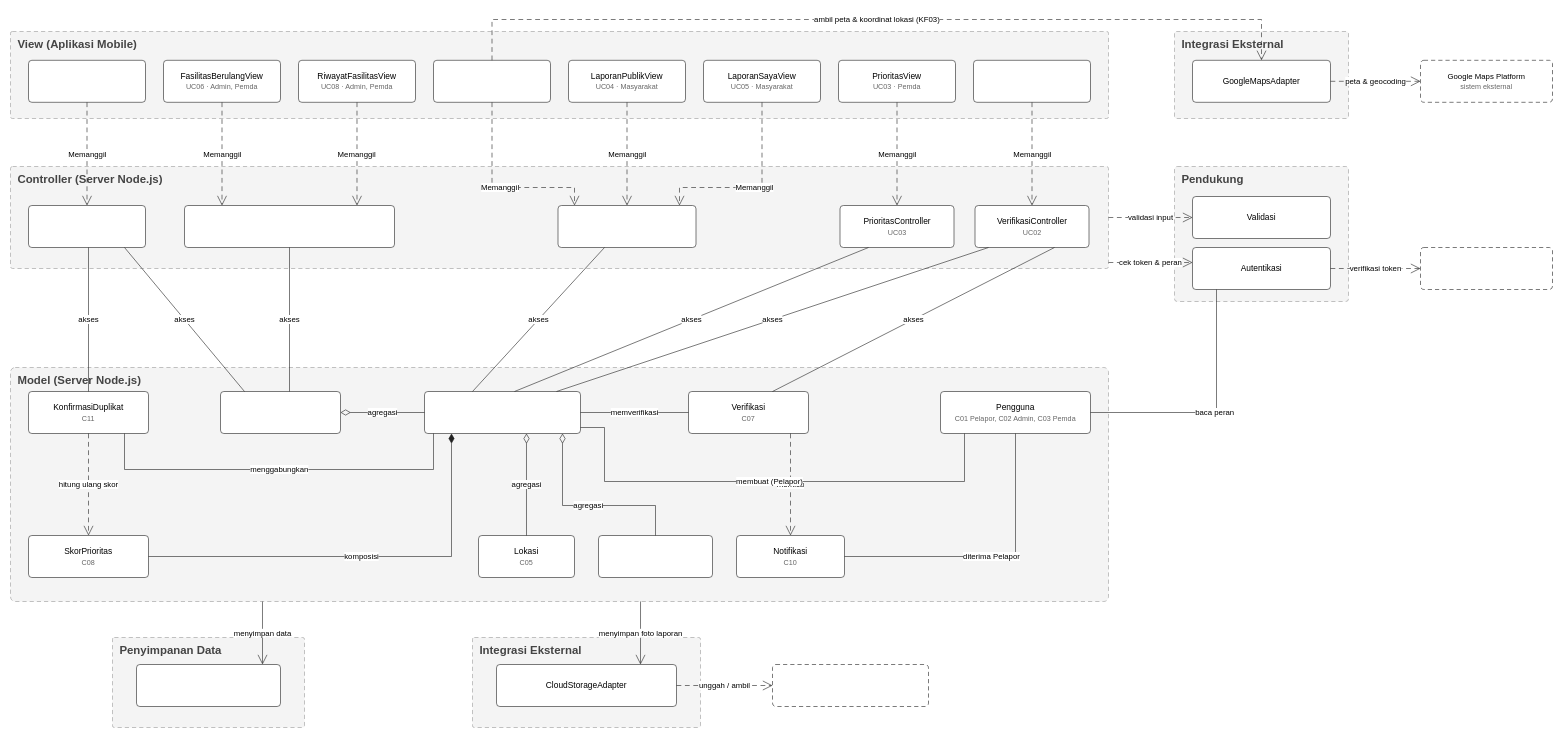
The diagram is 1563 pixels wide and 738 high, and some of its shapes have lost their labels. The shapes that lost their labels are listed below. From the top down, each one's box as (x1, y1, x2, y2) in pixels, then its label:
(28, 60, 146, 102): DuplikatView UC07 · Admin
(433, 60, 550, 102): FormLaporanView UC01 · Masyarakat
(973, 60, 1090, 102): VerifikasiView UC02 · Admin
(28, 205, 146, 248): DuplikatController UC07
(184, 205, 394, 248): FasilitasController UC06, UC08
(557, 205, 696, 248): LaporanController UC01, UC04, UC05
(1420, 247, 1552, 290): Google Sign-In sistem eksternal
(220, 391, 340, 434): Fasilitas C06
(424, 391, 580, 434): Laporan C04
(598, 535, 712, 578): RiwayatStatus C09
(136, 664, 280, 706): Database PostgreSQL 18
(772, 664, 928, 706): Google Cloud Storage sistem eksternal
